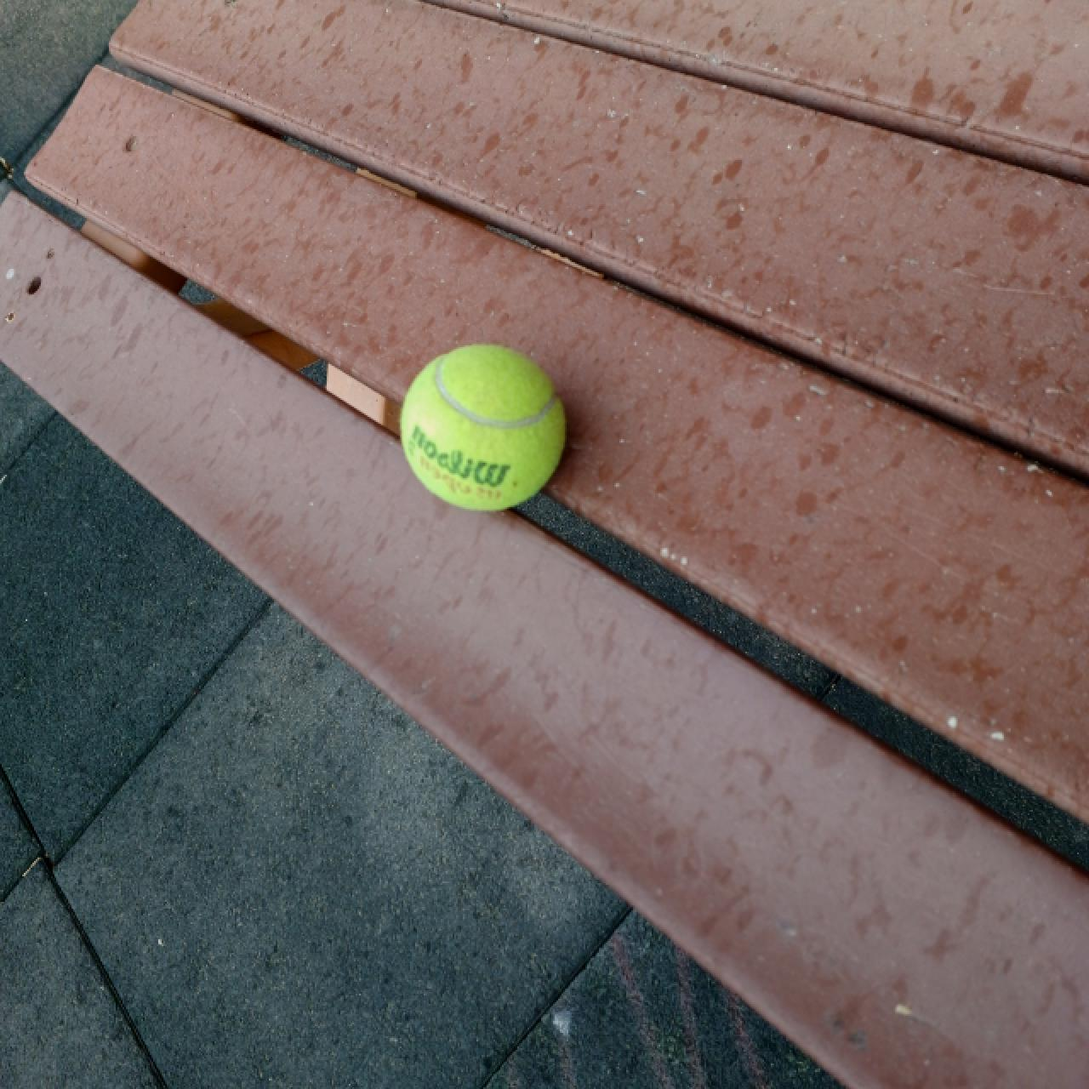tennis-ball: (399, 340, 569, 512)
